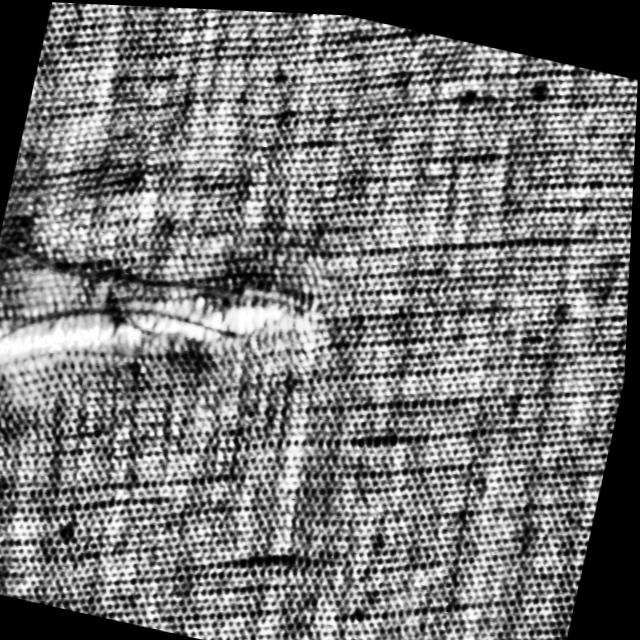Hole: (0, 227, 326, 451)
